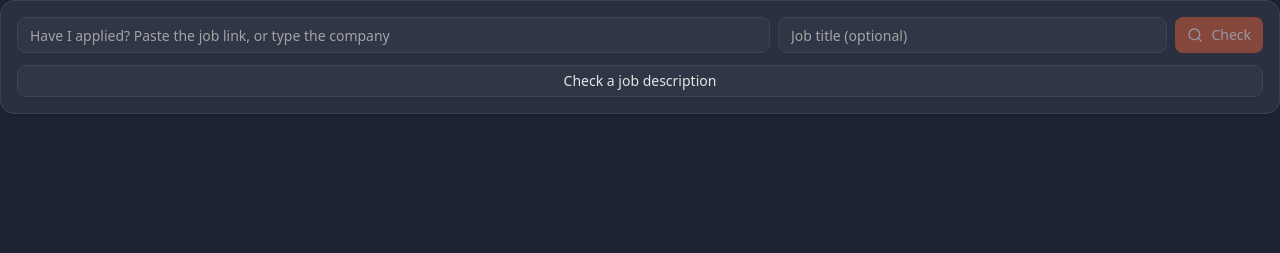
Test: HaveIApplied › yes: a pasted link matches the same posting, even through a recruiter
Type "https://uk.linkedin.com/jobs/view/4012345678?refId=zzz" into the field named "Job link or company" at (393, 35), box [17,17,770,53]
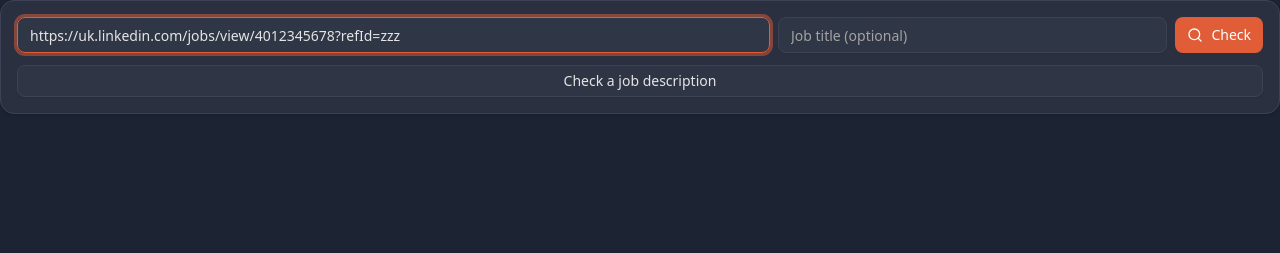
Now the button "Check" is enabled, box [1175,17,1263,53]
Press Enter
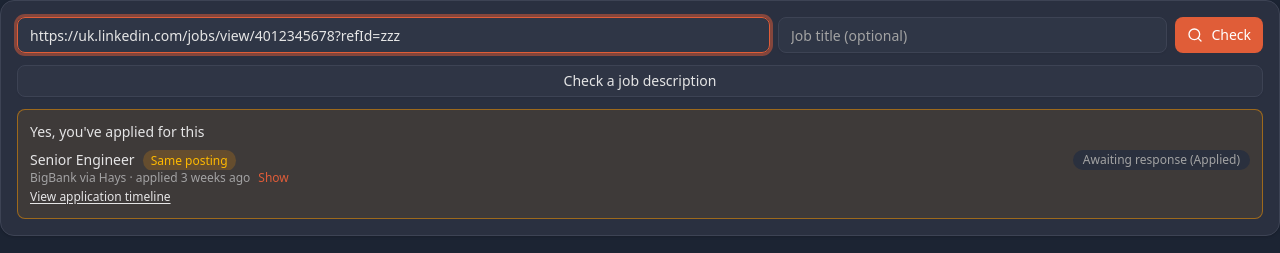
Now the message shows "Yes, you've applied for this", box [30,122,204,141]
Now the message shows "Senior EngineerSame posting", box [17,109,1263,219]
Now the message shows "BigBank via Hays · applied 3 weeks ago", box [17,109,1263,219]
